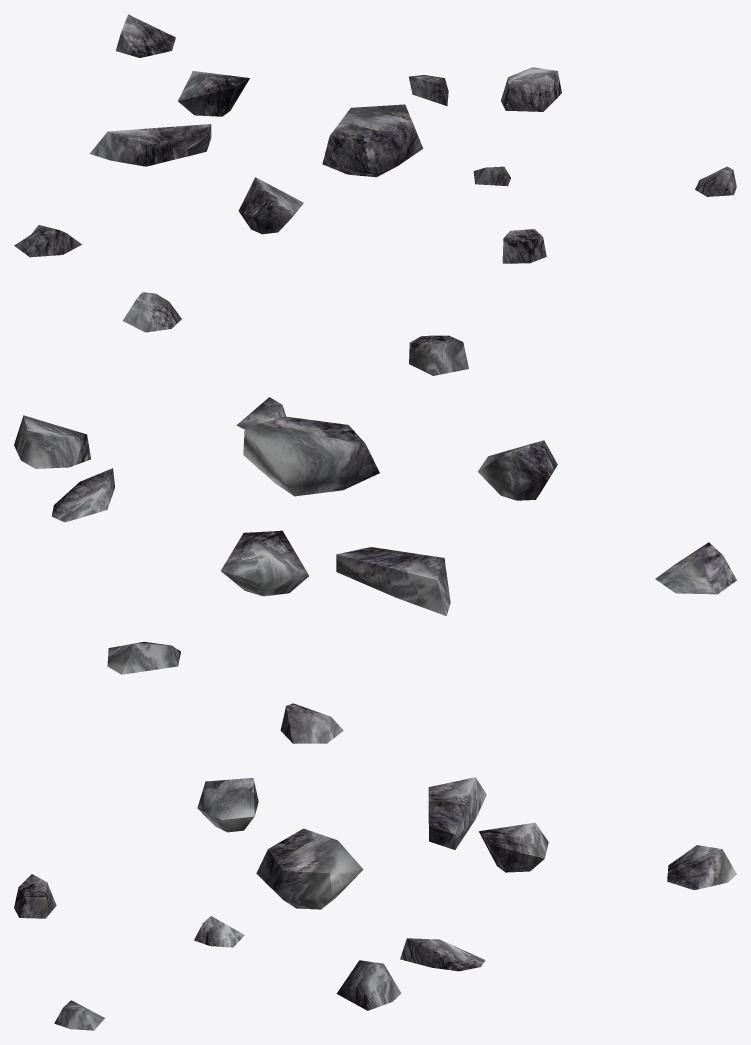
The model's file is snow_d_a06b.fbx.
3 views of the same model, one above another, from view 1: azimuth 30°, elevation 25°; view 2: azimuth 150°, elevation 25°; view 3: azimuth 270°, elevation 25° (orthographic). The views are drawn at different scales.
Visible parts, largest first — view 1: d_a06b; view 2: d_a06b; view 3: d_a06b.
Part boxes in pixels (x1,y1,x2,y2): d_a06b: (14, 14, 736, 263); d_a06b: (14, 292, 736, 674); d_a06b: (14, 703, 736, 1030).
Size of the model in its own units: 376 by 30.02 by 366.
